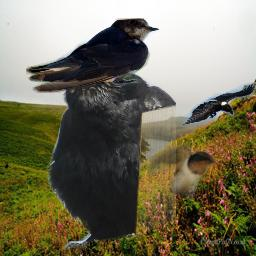Crow: (44, 41, 176, 250), (182, 82, 256, 125)
Swallow: (26, 18, 159, 93), (147, 143, 216, 199)
